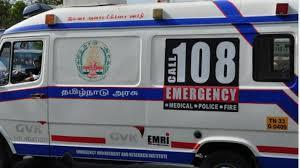ER: (1, 0, 300, 168)
